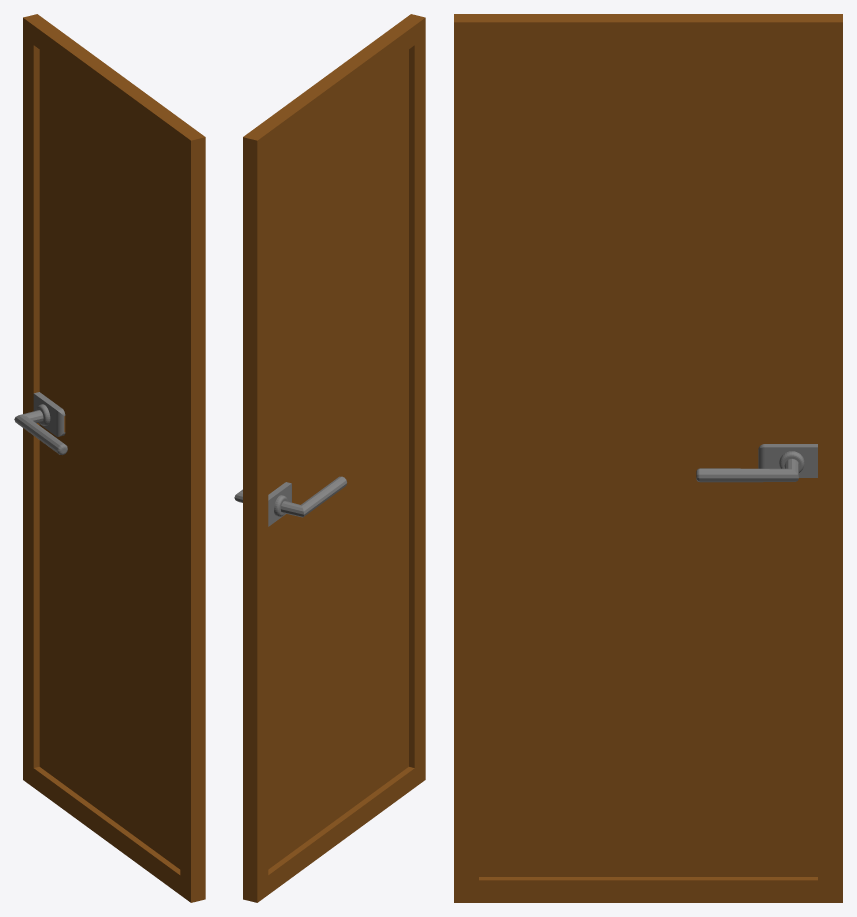
Rendered from porte.fbx.
The picture shows the model from 3 angles, left to right: view 1: azimuth 30°, elevation 25°; view 2: azimuth 150°, elevation 25°; view 3: azimuth 270°, elevation 25°; orthographic projection. The views are drawn at different scales.
Parts seen in each view (by area): view 1: Cube; view 2: Cube; view 3: Cube.
Part boxes in pixels (box(x1,y1,x2,y2)): Cube: box(14, 14, 205, 902); Cube: box(234, 14, 425, 902); Cube: box(454, 14, 842, 902).
Bounding box in the file's own units: 19.13 × 200 × 80.
